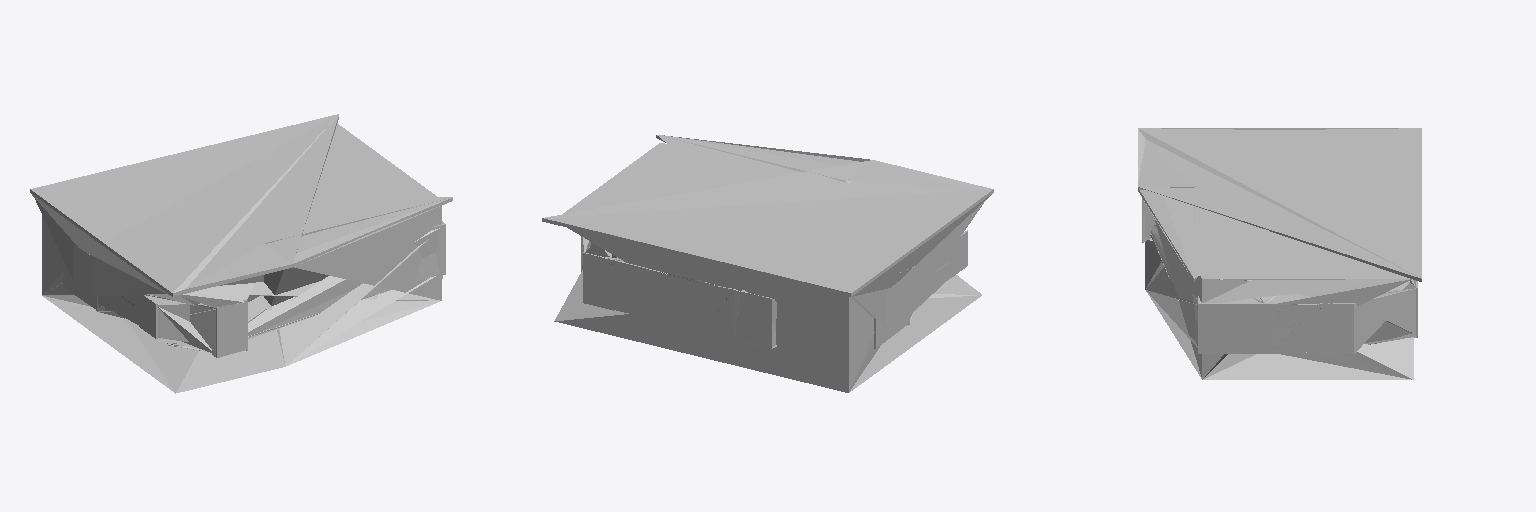
3 views of the same model, side by side, from view 1: azimuth 30°, elevation 25°; view 2: azimuth 150°, elevation 25°; view 3: azimuth 270°, elevation 25° (orthographic).
Visible parts, largest first — view 1: stove, wood, frame_window, toilet, fridge, walls, wooden_floor, tv, leather_sofa, marble_floor, shower, white_stone_wall (+1 smaller); view 2: stove, wood, shower, frame_window, fridge, toilet, walls, wooden_floor, tv, grass, pillow; view 3: stove, wood, frame_window, walls, toilet, leather_sofa, shower, pillow, white_stone_wall, wash_basin, tv, fridge.
Part boxes in pixels (left/top/right/bottom): stove: left=98, top=114, right=452, bottom=353; wood: left=31, top=114, right=452, bottom=392; frame_window: left=63, top=206, right=445, bottom=357; toilet: left=30, top=189, right=448, bottom=365; fridge: left=183, top=239, right=428, bottom=366; walls: left=42, top=123, right=445, bottom=296; wooden_floor: left=43, top=296, right=174, bottom=392; tv: left=316, top=125, right=436, bottom=196; leather_sofa: left=261, top=223, right=442, bottom=365; marble_floor: left=42, top=130, right=431, bottom=300; shower: left=44, top=224, right=445, bottom=393; white_stone_wall: left=45, top=281, right=439, bottom=319; stove: left=545, top=135, right=992, bottom=348; wood: left=544, top=135, right=993, bottom=348; shower: left=554, top=144, right=979, bottom=392; frame_window: left=581, top=230, right=967, bottom=348; fridge: left=568, top=228, right=848, bottom=391; toilet: left=542, top=138, right=993, bottom=386; walls: left=563, top=143, right=897, bottom=390; wooden_floor: left=666, top=144, right=981, bottom=391; tv: left=565, top=143, right=710, bottom=213; grass: left=849, top=297, right=873, bottom=389; pillow: left=555, top=270, right=628, bottom=320; stove: left=1138, top=128, right=1421, bottom=379; wood: left=1138, top=128, right=1421, bottom=379; frame_window: left=1142, top=218, right=1417, bottom=376; walls: left=1198, top=231, right=1417, bottom=353; toilet: left=1138, top=128, right=1417, bottom=353; leather_sofa: left=1146, top=279, right=1411, bottom=379; shower: left=1199, top=231, right=1415, bottom=377; pillow: left=1202, top=296, right=1413, bottom=379; white_stone_wall: left=1198, top=279, right=1416, bottom=353; wash_basin: left=1198, top=289, right=1415, bottom=353; tv: left=1202, top=235, right=1406, bottom=278; fridge: left=1146, top=267, right=1248, bottom=375.
Bounding box in the file's own units: 36.09 × 11.69 × 28.79.